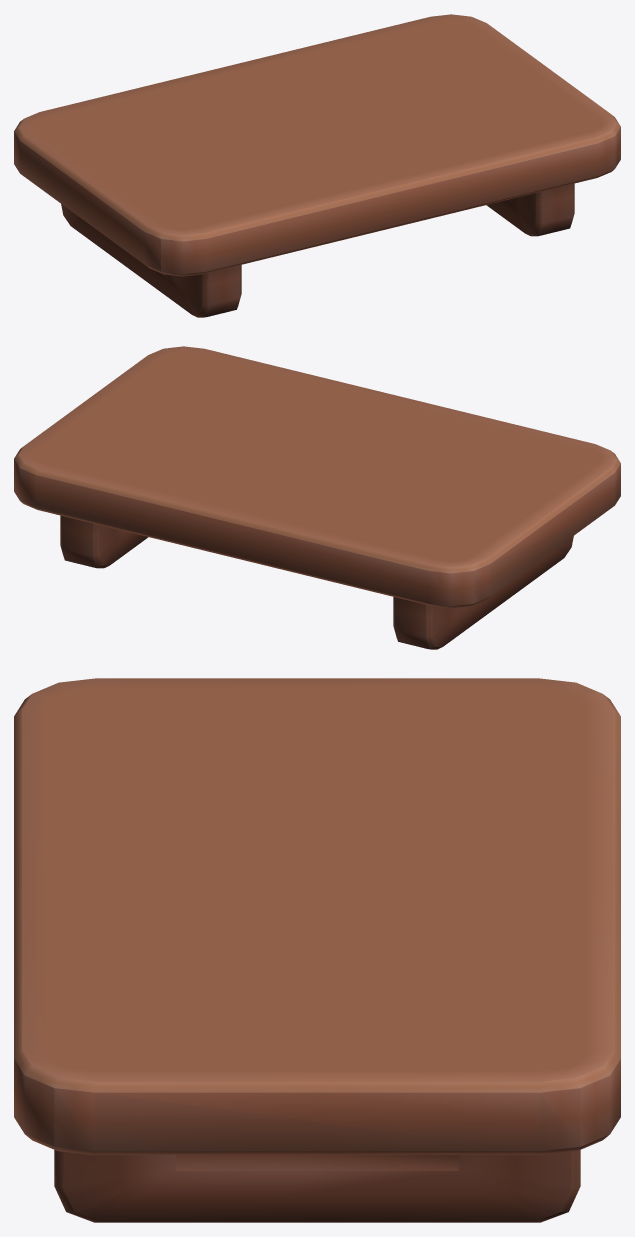
Rendered from prop_table_low.glb.
3 views of the same model, one above another, from view 1: azimuth 30°, elevation 25°; view 2: azimuth 150°, elevation 25°; view 3: azimuth 270°, elevation 25° (orthographic). The views are drawn at different scales.
Visible parts, largest first — view 1: refined; view 2: refined; view 3: refined.
Part boxes in pixels (x1,y1,x2,y2): refined: (14,14,620,317); refined: (14,346,620,649); refined: (14,678,620,1222).
Size of the model in its own units: 2.4 by 0.5 by 1.5.
